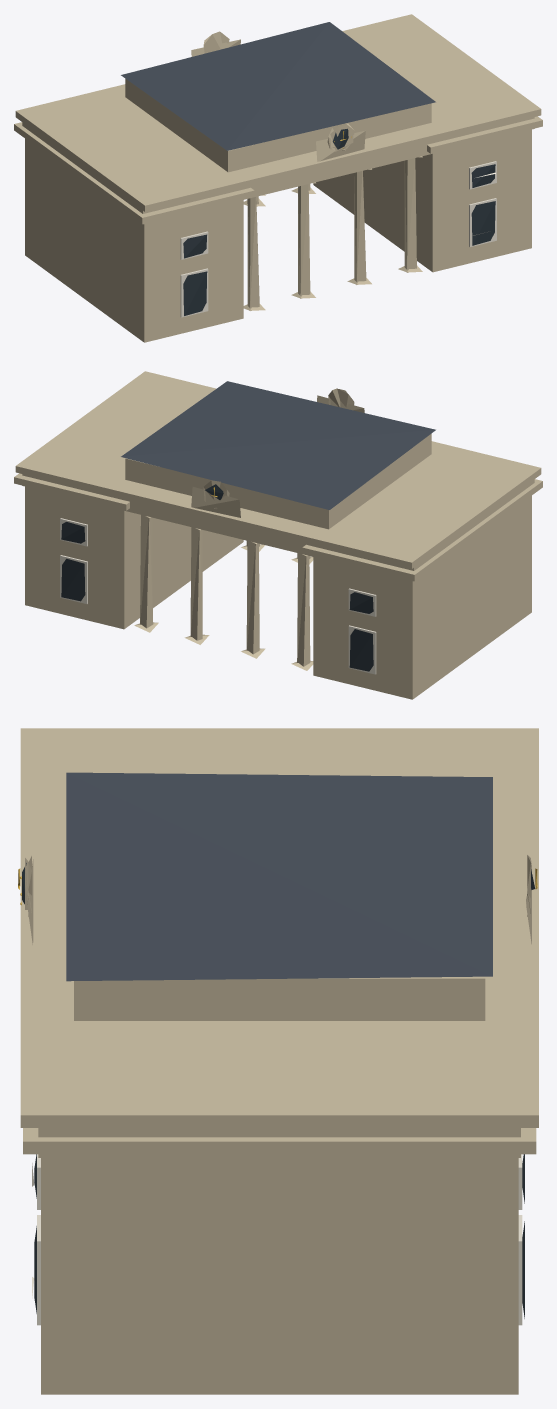
The model's file is haarlemmerpoort.lod1.glb.
3 renders of one model, top to bottom at view 1: azimuth 30°, elevation 25°; view 2: azimuth 150°, elevation 25°; view 3: azimuth 270°, elevation 25°, orthographic. The views are drawn at different scales.
Visible parts, largest first — view 1: haarlemmerpoort; view 2: haarlemmerpoort; view 3: haarlemmerpoort.
Boxes of the visible parts, x1,y1,x2,y2 form: haarlemmerpoort: (14, 14, 542, 342); haarlemmerpoort: (14, 371, 542, 699); haarlemmerpoort: (18, 728, 538, 1394).
Size of the model in its own units: 36.36 by 15.04 by 20.46.
